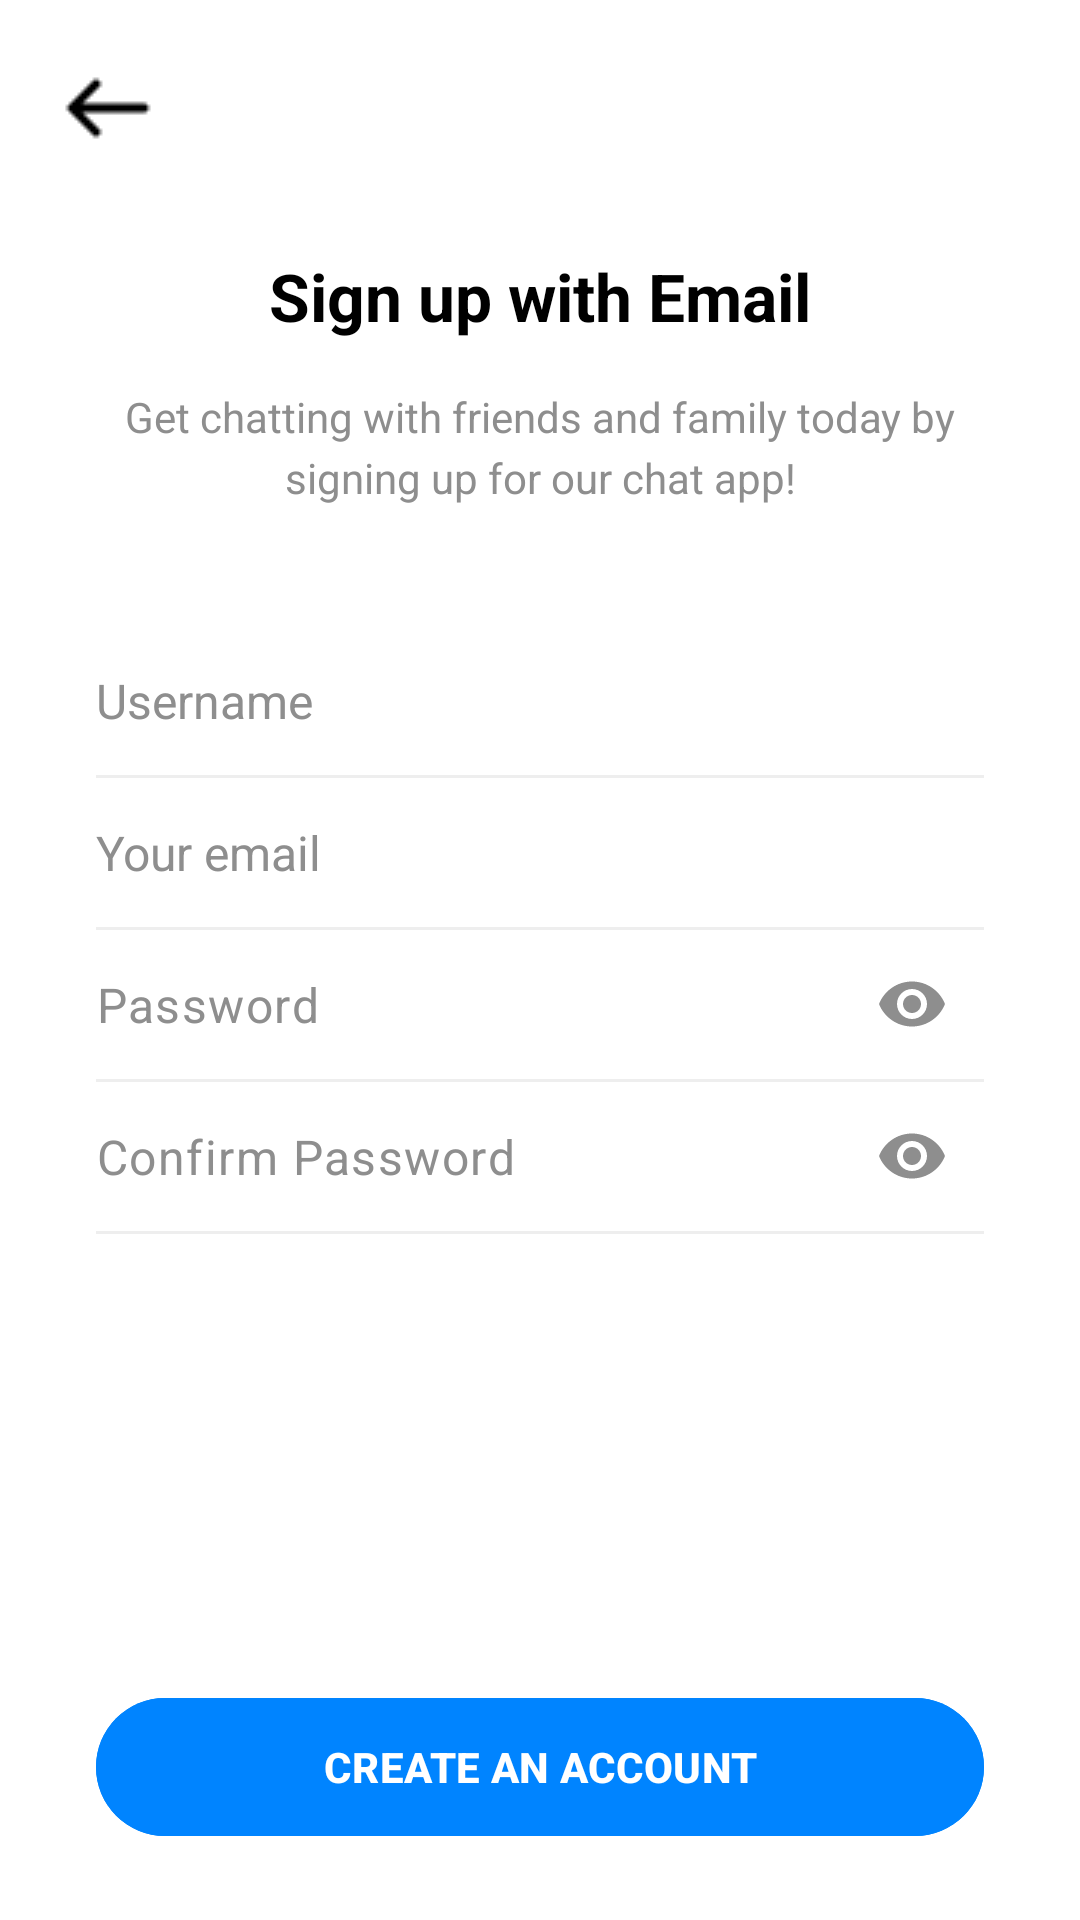

Where icons sit on this 1080*1920 app screen, as bbox=(x1, y1, x2, y2):
Back: bbox=(65, 77, 151, 139)
